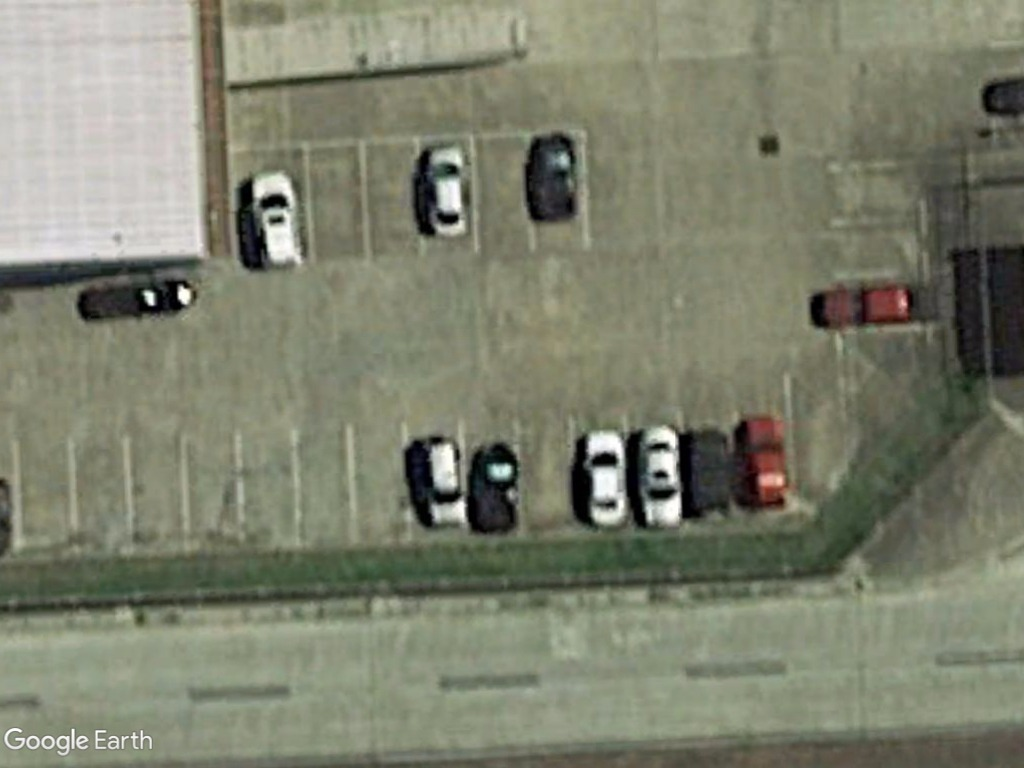car: (250, 163, 312, 275), (736, 411, 795, 516), (417, 141, 475, 242), (576, 425, 630, 532), (634, 416, 685, 526), (420, 432, 470, 533), (815, 282, 922, 329)
